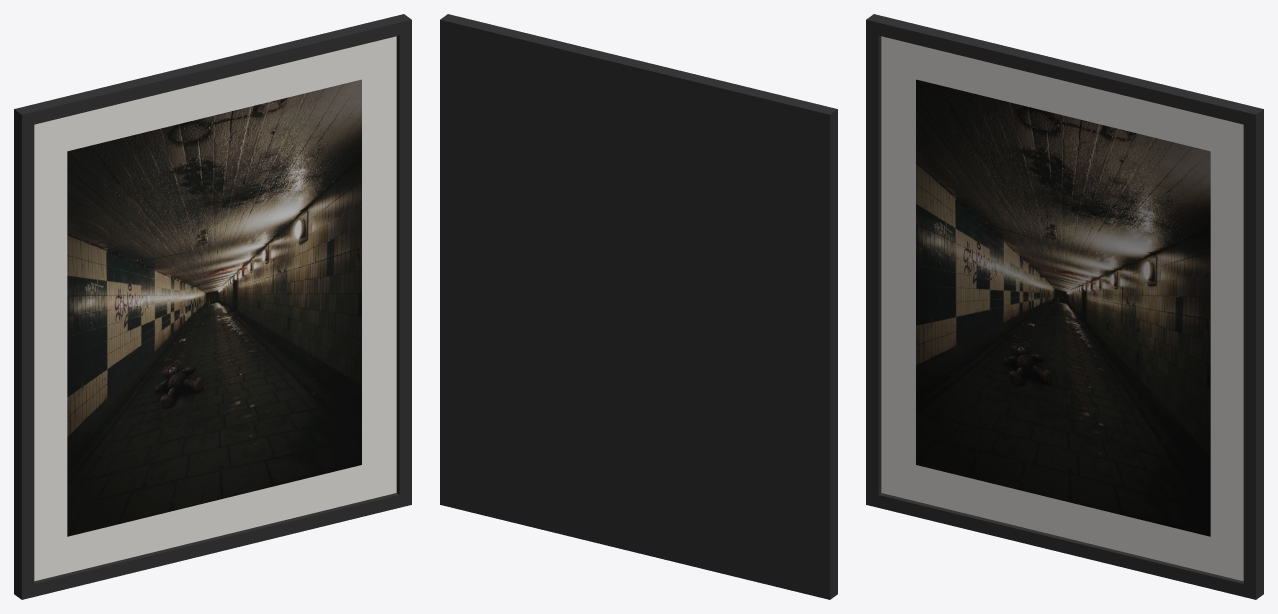
File: gangtunneln-60.gltf
3 views of the same model, side by side, from view 1: azimuth 30°, elevation 25°; view 2: azimuth 150°, elevation 25°; view 3: azimuth 330°, elevation 25° (orthographic).
Visible parts, largest first — view 1: tavla; view 2: tavla; view 3: tavla.
Boxes of the visible parts, x1,y1,x2,y2 form: tavla: (14,14,411,599); tavla: (440,14,837,599); tavla: (866,14,1263,599).
Size of the model in its own units: 0.6352 by 0.7552 by 0.022.
Materials: 3 (1 with a texture image).
